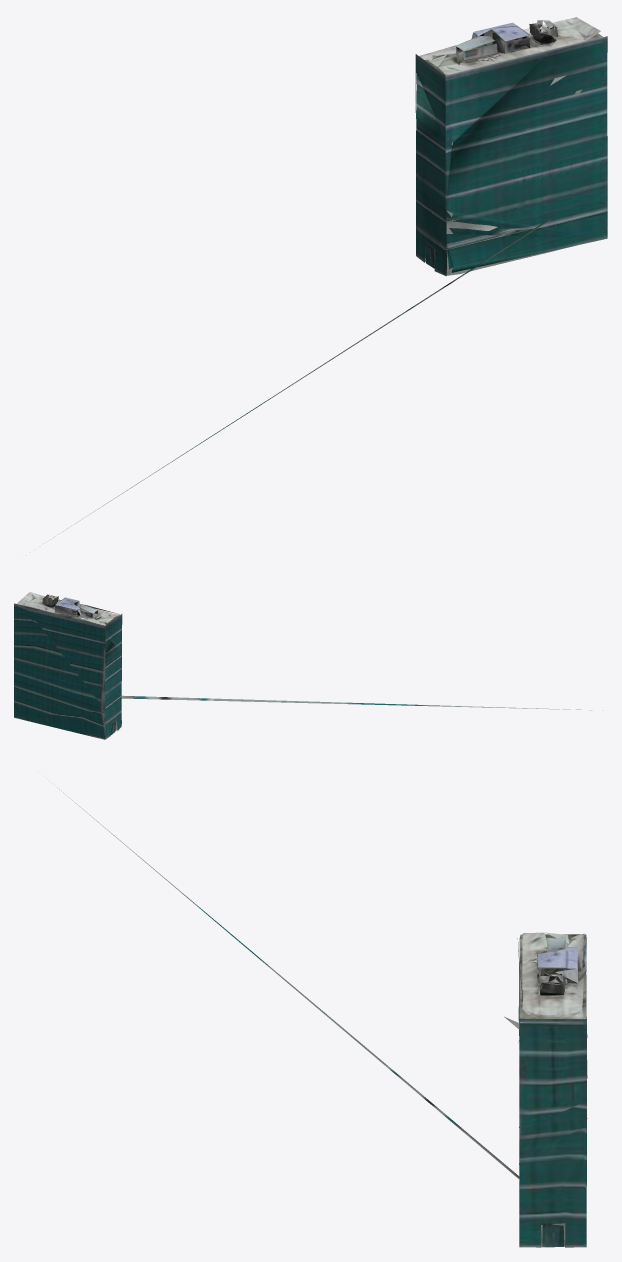
Rendered from stadt_buero_lo.glb.
3 renders of one model, top to bottom at view 1: azimuth 30°, elevation 25°; view 2: azimuth 150°, elevation 25°; view 3: azimuth 270°, elevation 25°, orthographic. The views are drawn at different scales.
Parts seen in each view (by area): view 1: Prop; view 2: Prop; view 3: Prop.
Boxes of the visible parts, box(x1,y1,x2,y2) form: Prop: box(53, 17, 607, 537); Prop: box(14, 592, 603, 739); Prop: box(46, 778, 587, 1247).
Size of the model in its own units: 3.9 by 1 by 2.05.
1 material, 1 textured.
